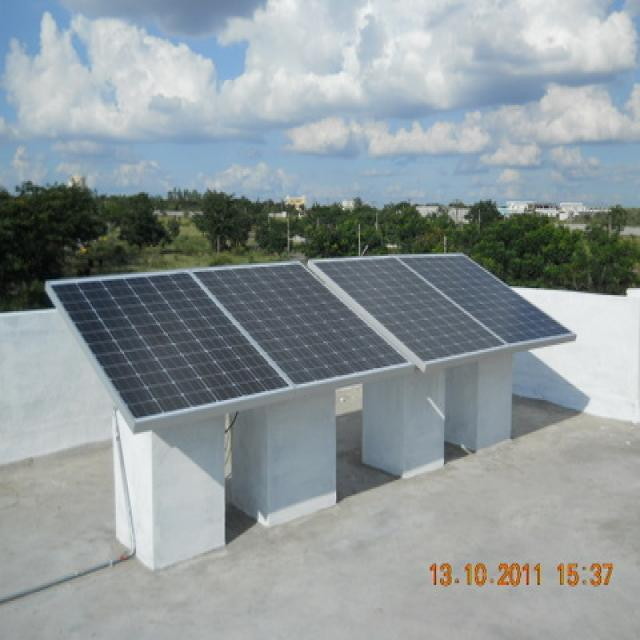clean-solar-panel: (50, 262, 408, 429), (309, 255, 574, 366)
